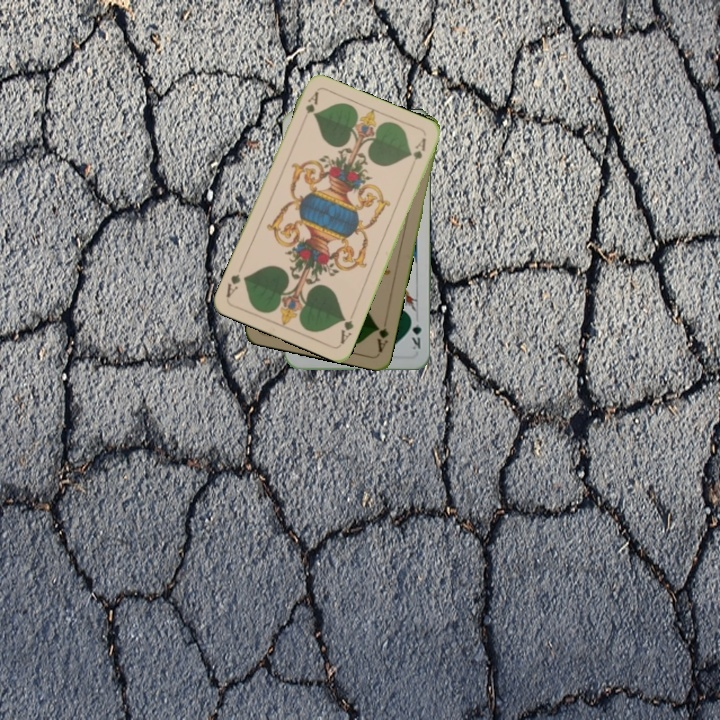GA: (298, 88, 321, 126), (372, 314, 391, 355), (336, 308, 356, 346)
GK: (407, 313, 424, 352)
